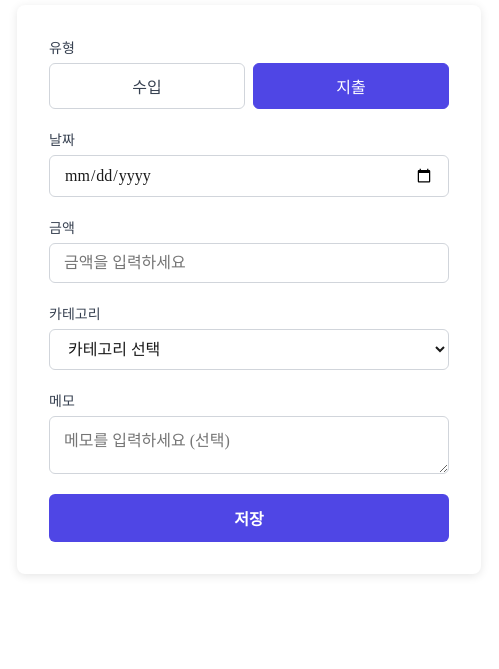
Scenario: TransactionForm › 금액이 비어 있으면 에러를 표시하고 저장하지 않는다
Click the button "저장": [249, 518] box [49,494,449,542]
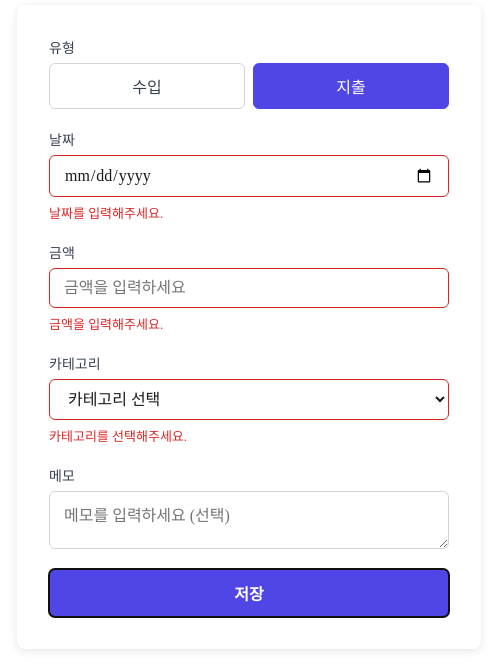
Now the text "금액을 입력해주세요." is shown, box [49,317,163,332]
